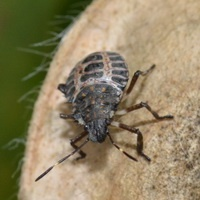insect: (35, 51, 172, 181)
